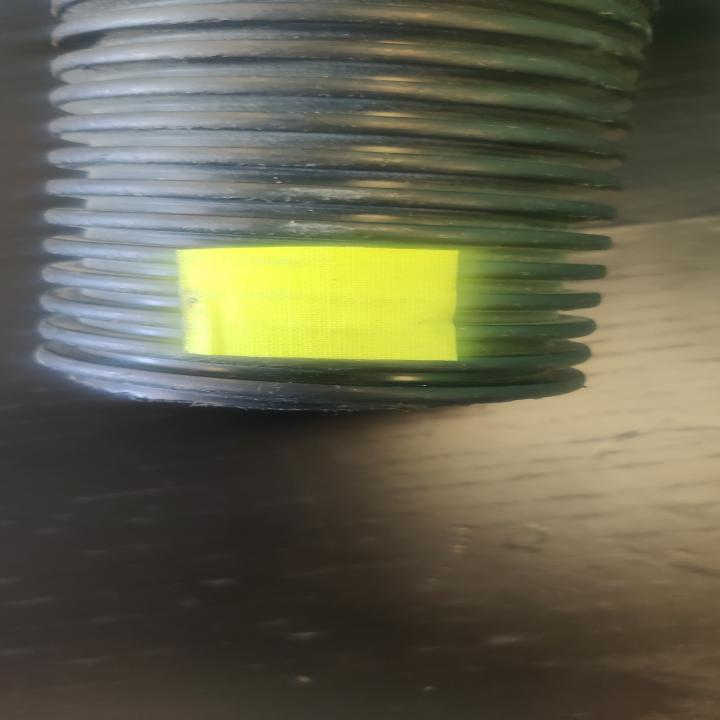robot-front: (68, 3, 639, 404)
